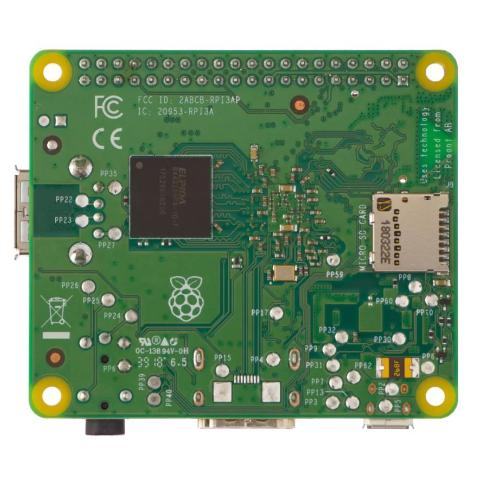Raspberry-Pi-3-Model-A-: (9, 40, 465, 440)
